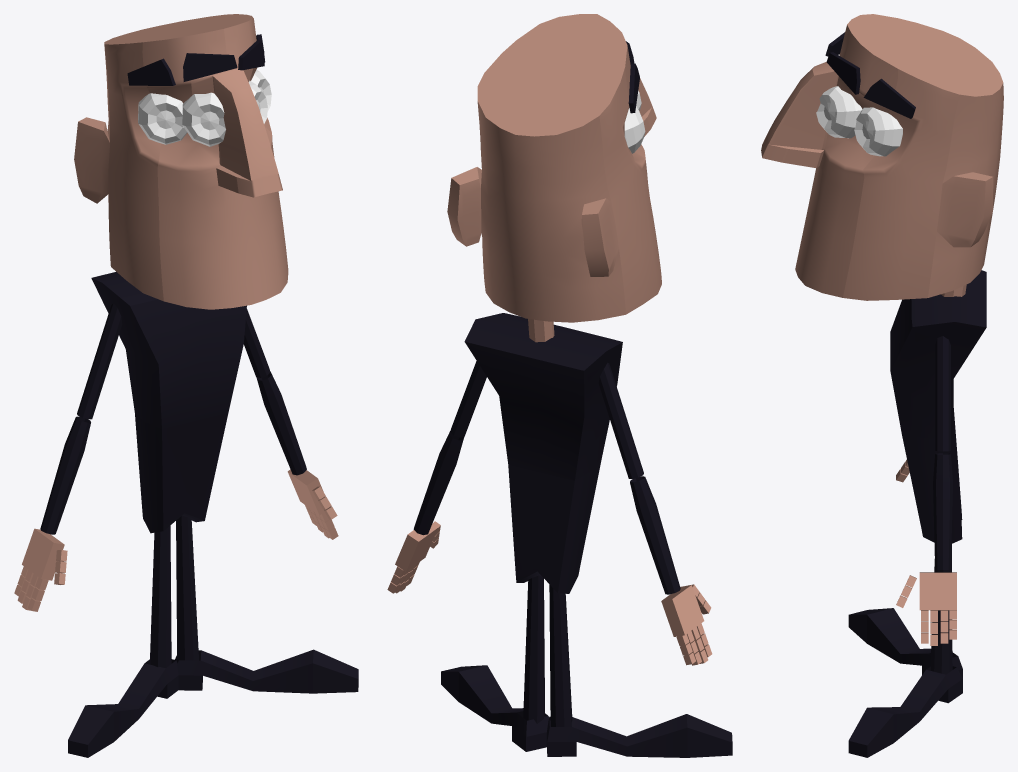
Rendered from death.obj.
The picture shows the model from 3 angles, left to right: view 1: azimuth 30°, elevation 25°; view 2: azimuth 150°, elevation 25°; view 3: azimuth 270°, elevation 25°; orthographic projection. The views are drawn at different scales.
Visible parts, largest first — view 1: head; view 2: head; view 3: head.
Boxes of the visible parts, x1,y1,x2,y2 form: head: (14, 14, 358, 757); head: (387, 14, 732, 757); head: (761, 14, 1003, 757).
Bounding box in the file's own units: 2.33 × 5.03 × 1.66.
